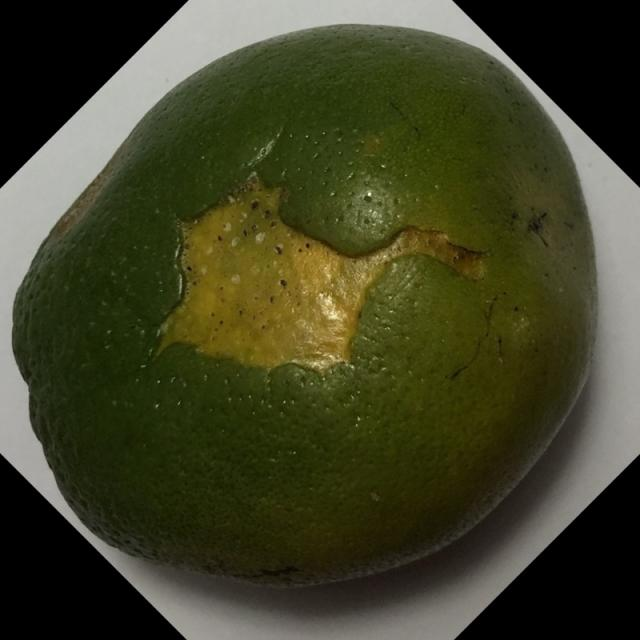canker: (8, 14, 622, 596)
